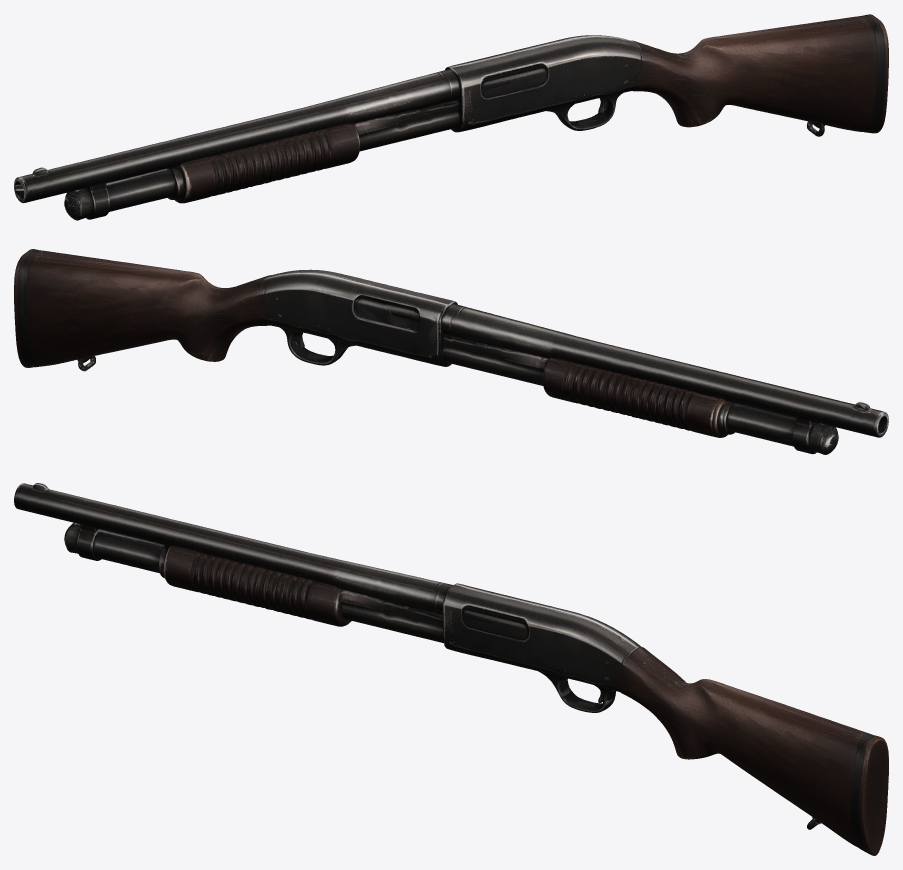
File: shotgun.glb
3 renders of one model, top to bottom at view 1: azimuth 30°, elevation 25°; view 2: azimuth 150°, elevation 25°; view 3: azimuth 330°, elevation 25°, orthographic.
Parts seen in each view (by area): view 1: mesh_node; view 2: mesh_node; view 3: mesh_node.
Boxes of the visible parts, <box> form: mesh_node: <box>14,14,888,220</box>; mesh_node: <box>14,249,888,454</box>; mesh_node: <box>14,483,888,855</box>.
Size of the model in its own units: 1.9 by 0.3555 by 0.099.
Materials: 1 (1 with a texture image).
